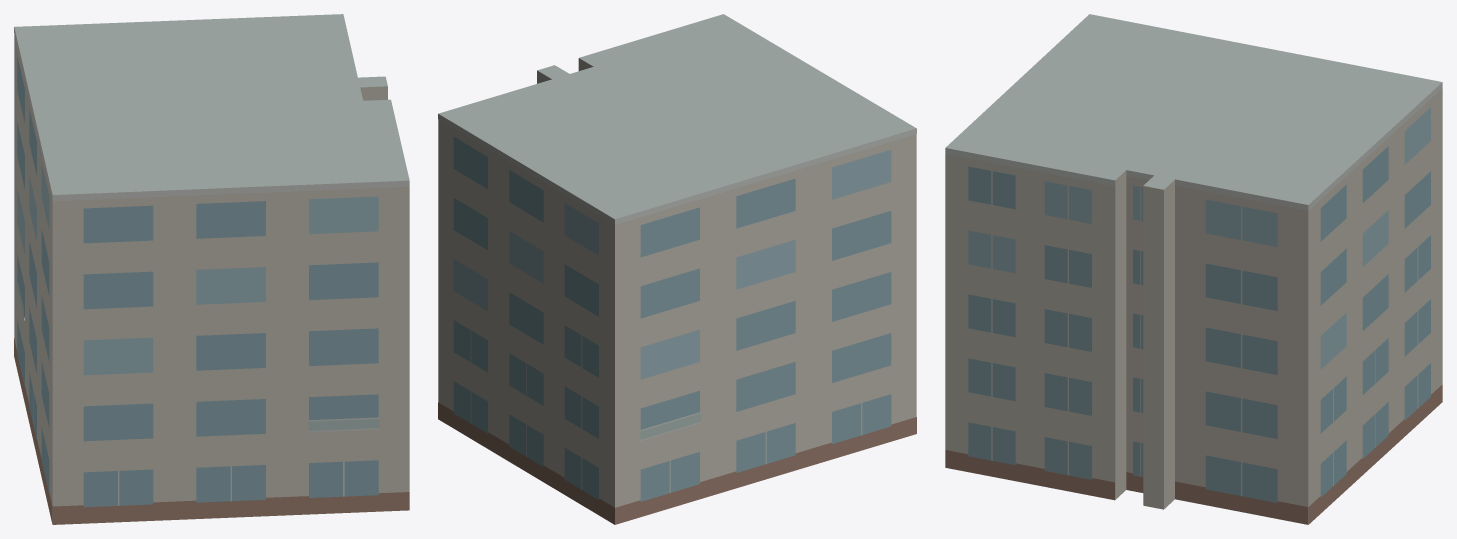
The model's file is survey-upis-32672096.glb.
The picture shows the model from 3 angles, left to right: view 1: azimuth 30°, elevation 25°; view 2: azimuth 150°, elevation 25°; view 3: azimuth 270°, elevation 25°; orthographic projection. The views are drawn at different scales.
Visible parts, largest first — view 1: survey-upis-32672096.tmp; view 2: survey-upis-32672096.tmp; view 3: survey-upis-32672096.tmp.
Part boxes in pixels (bbox=[...]): survey-upis-32672096.tmp: bbox=[14, 14, 409, 524]; survey-upis-32672096.tmp: bbox=[438, 14, 916, 524]; survey-upis-32672096.tmp: bbox=[945, 14, 1442, 524].
Size of the model in its own units: 16.94 by 13.22 by 18.64.
